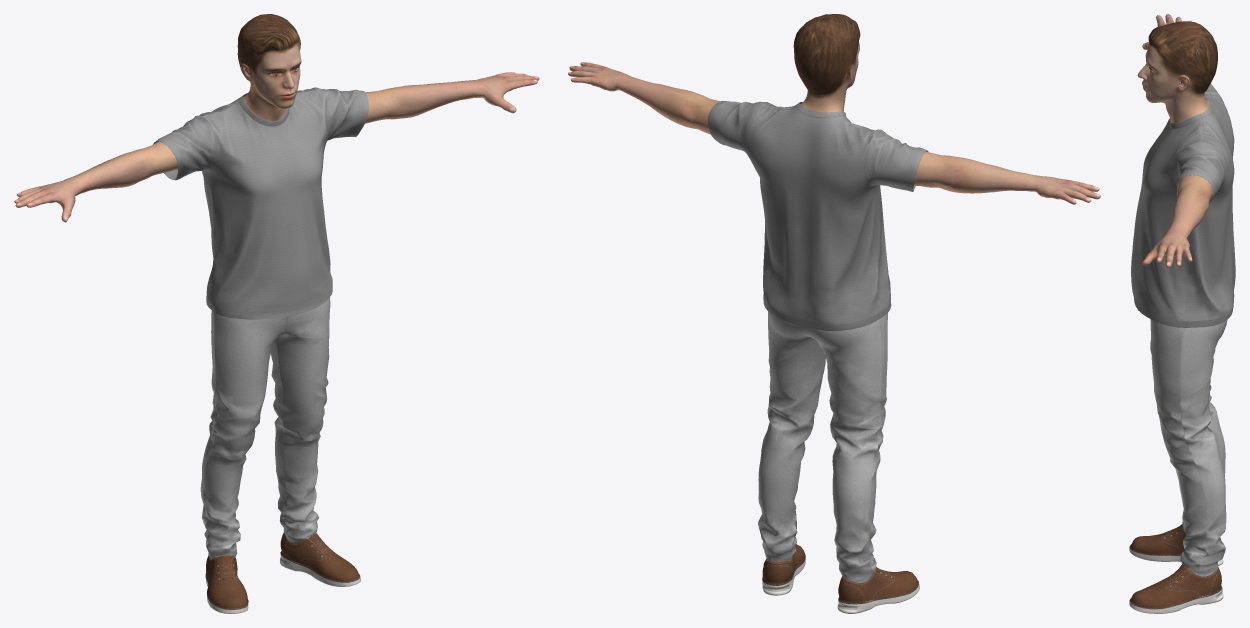
File: promptplay-male-1717.glb
3 renders of one model, left to right at view 1: azimuth 30°, elevation 25°; view 2: azimuth 150°, elevation 25°; view 3: azimuth 270°, elevation 25°, orthographic. The views are drawn at different scales.
Parts seen in each view (by area): view 1: outfit_top, outfit_bottom, AvatarBody, AvatarHead, outfit_shoes; view 2: outfit_top, outfit_bottom, AvatarBody, AvatarHead, outfit_shoes; view 3: outfit_top, outfit_bottom, AvatarHead, outfit_shoes, AvatarBody.
Boxes of the visible parts, x1,y1,x2,y2 form: outfit_top: [153, 87, 368, 319]; outfit_bottom: [200, 297, 330, 559]; AvatarBody: [14, 72, 539, 222]; AvatarHead: [237, 14, 301, 121]; outfit_shoes: [205, 532, 361, 613]; outfit_top: [708, 100, 928, 330]; outfit_bottom: [758, 311, 887, 582]; AvatarBody: [568, 62, 1100, 204]; AvatarHead: [793, 14, 860, 112]; outfit_shoes: [762, 544, 919, 613]; outfit_top: [1131, 83, 1235, 327]; outfit_bottom: [1150, 319, 1227, 576]; AvatarHead: [1137, 21, 1217, 123]; outfit_shoes: [1129, 524, 1223, 613]; AvatarBody: [1142, 14, 1212, 267].
Size of the model in its own units: 1.9 by 1.96 by 0.3395.
10 materials, 9 textured.
